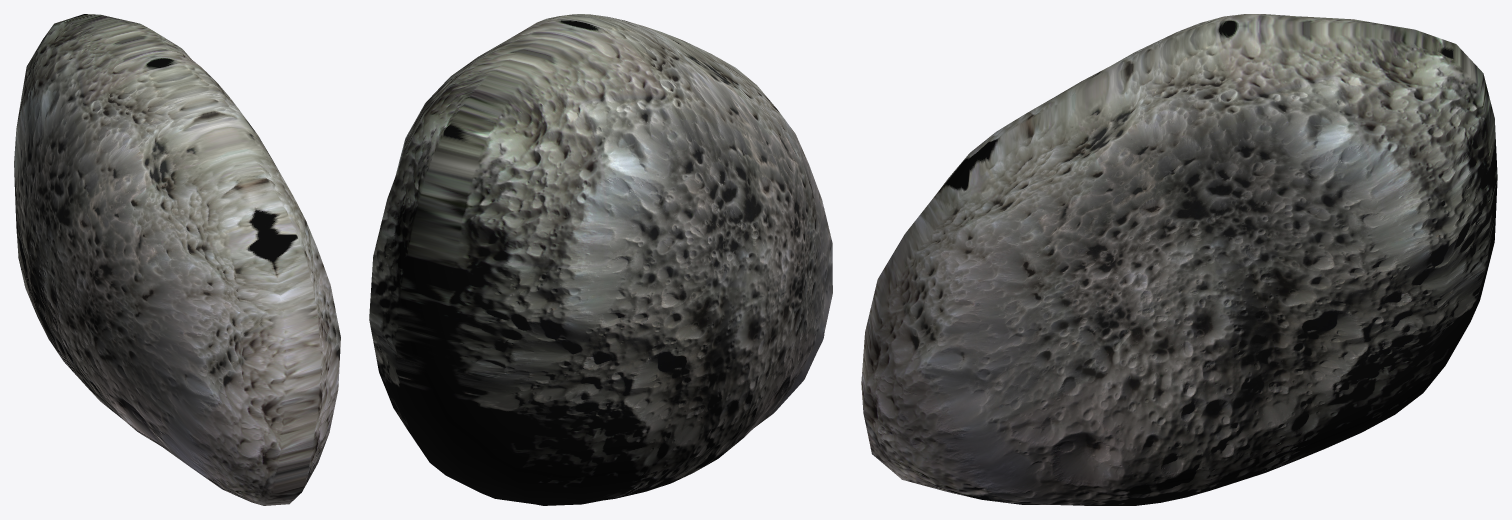
Rendered from moonLanding_v01.fbx.
3 renders of one model, left to right at view 1: azimuth 30°, elevation 25°; view 2: azimuth 150°, elevation 25°; view 3: azimuth 270°, elevation 25°, orthographic. The views are drawn at different scales.
Visible parts, largest first — view 1: Hyperion_Moon; view 2: Hyperion_Moon; view 3: Hyperion_Moon.
Boxes of the visible parts, left/top/right/bottom form: Hyperion_Moon: left=14, top=14, right=340, bottom=505; Hyperion_Moon: left=369, top=14, right=832, bottom=505; Hyperion_Moon: left=861, top=14, right=1497, bottom=505.
Bounding box in the file's own units: 450 × 746 × 926.
